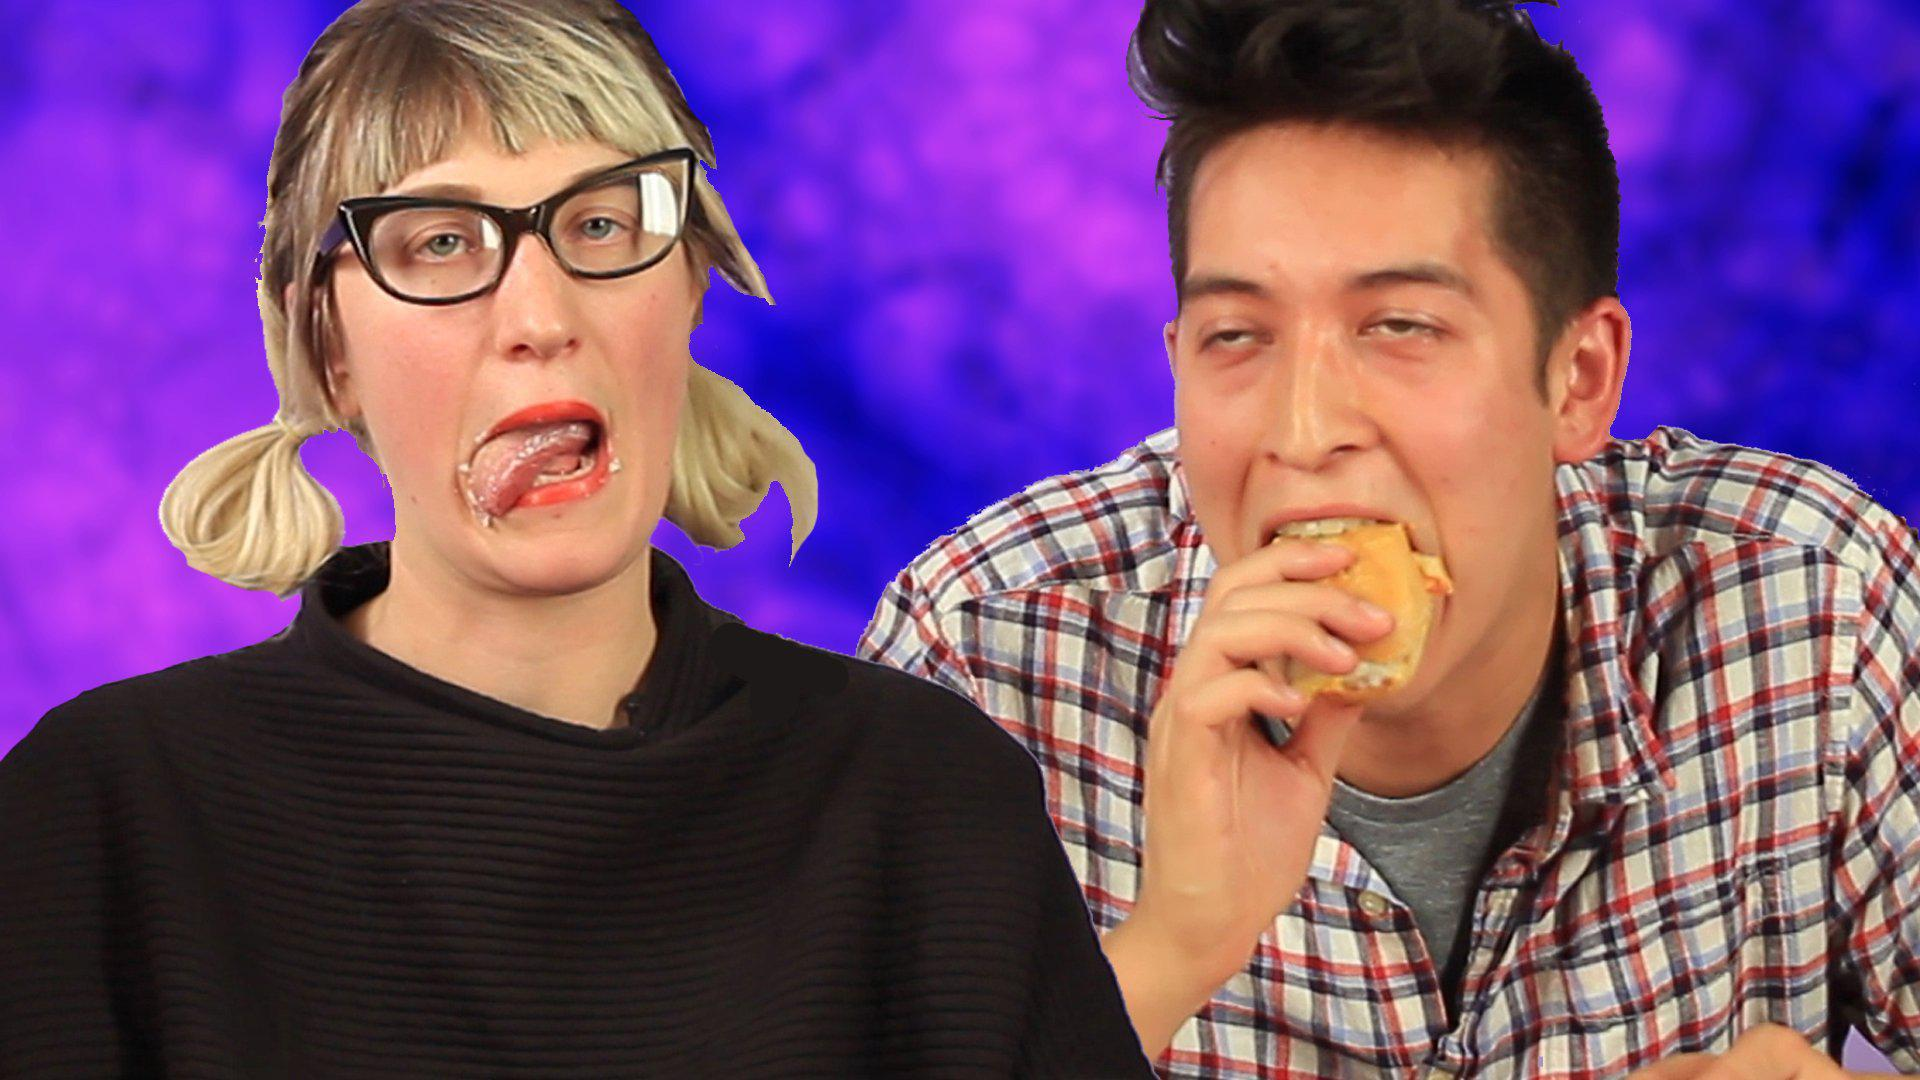Drunk: (1176, 173, 1515, 684), (368, 158, 680, 570)
